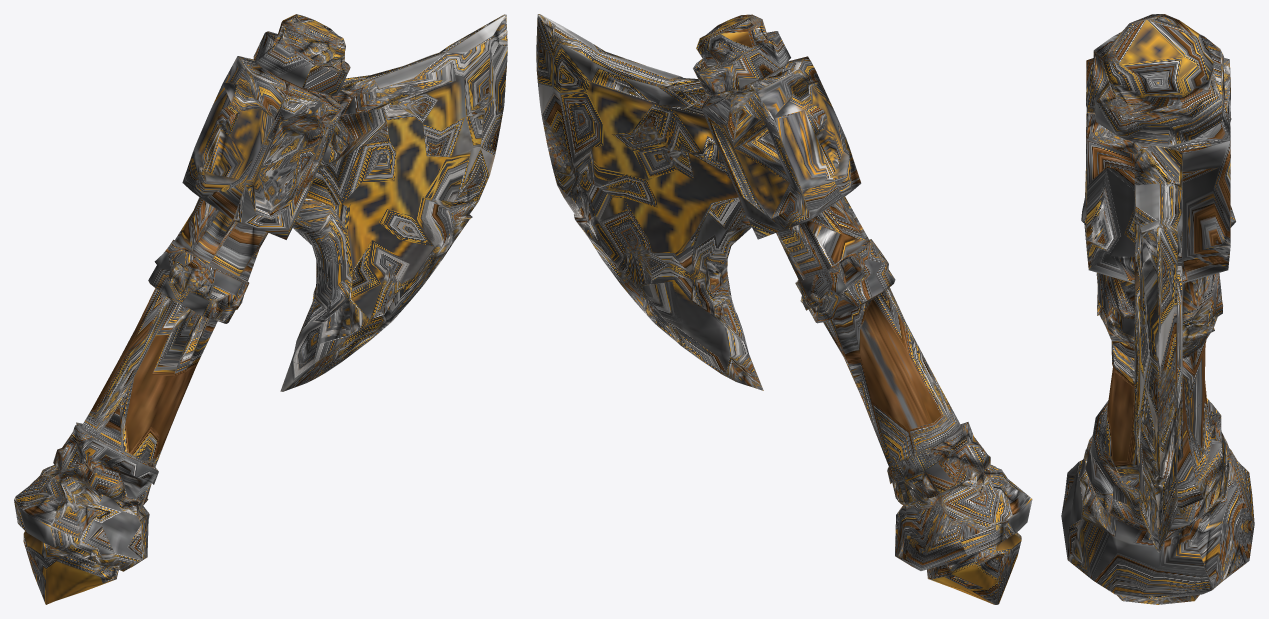
File: w_dwarven_war_axe.glb
3 views of the same model, side by side, from view 1: azimuth 30°, elevation 25°; view 2: azimuth 150°, elevation 25°; view 3: azimuth 270°, elevation 25° (orthographic). The views are drawn at different scales.
Size of the model in its own units: 0.9627 by 1 by 0.235.
Materials: 1 (1 with a texture image).
